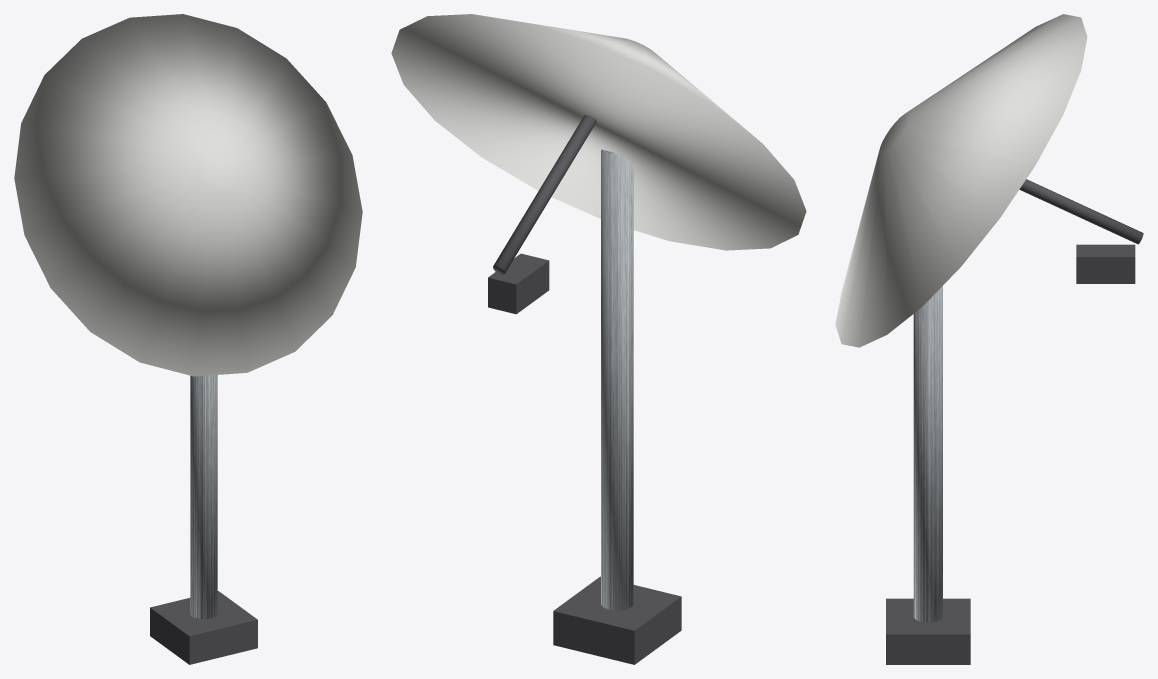
The model's file is WK_STR_Dish.glb.
3 renders of one model, left to right at view 1: azimuth 30°, elevation 25°; view 2: azimuth 150°, elevation 25°; view 3: azimuth 270°, elevation 25°, orthographic. The views are drawn at different scales.
Visible parts, largest first — view 1: WK_STR_Dish_P03, WK_STR_Dish_P01, WK_STR_Dish_P02; view 2: WK_STR_Dish_P03, WK_STR_Dish_P01, WK_STR_Dish_P02, WK_STR_Dish_P05, WK_STR_Dish_P04; view 3: WK_STR_Dish_P03, WK_STR_Dish_P01, WK_STR_Dish_P02, WK_STR_Dish_P05, WK_STR_Dish_P04.
Boxes of the visible parts, x1,y1,x2,y2 form: WK_STR_Dish_P03: (14, 14, 362, 376); WK_STR_Dish_P01: (190, 375, 217, 619); WK_STR_Dish_P02: (150, 591, 257, 664); WK_STR_Dish_P03: (391, 14, 806, 250); WK_STR_Dish_P01: (601, 149, 633, 610); WK_STR_Dish_P02: (553, 576, 681, 664); WK_STR_Dish_P05: (488, 253, 549, 314); WK_STR_Dish_P04: (493, 115, 596, 274); WK_STR_Dish_P03: (835, 14, 1087, 347); WK_STR_Dish_P01: (913, 286, 942, 622); WK_STR_Dish_P02: (886, 598, 970, 664); WK_STR_Dish_P05: (1076, 244, 1135, 283); WK_STR_Dish_P04: (1019, 179, 1143, 244).
Bounding box in the file's own units: 0.96 × 1.59 × 0.7296.
Materials: 3 (1 with a texture image).
